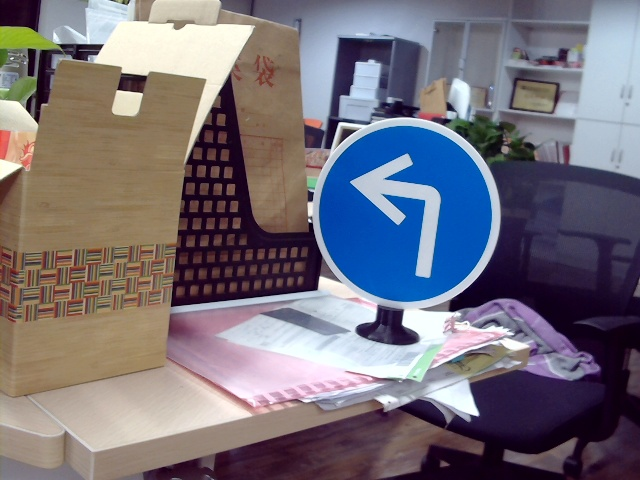turn_left: (351, 147, 443, 278)
